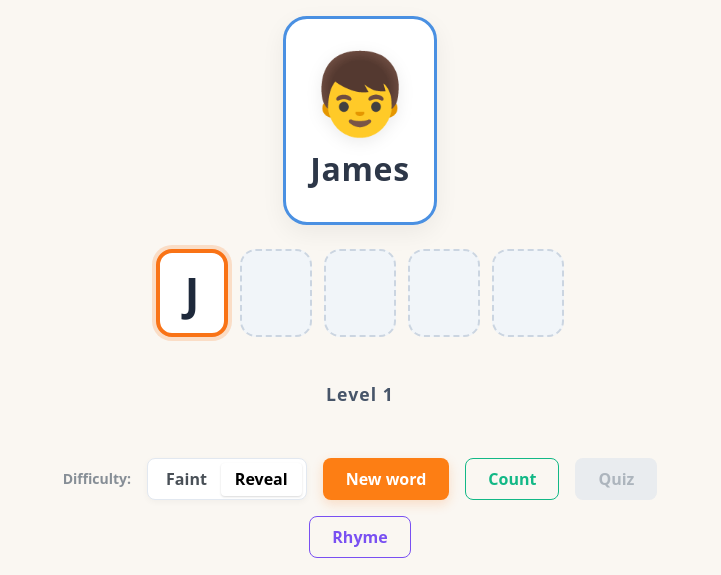
Test case: TypingGame › allows switching to Rhyme mode immediately and displays RhymeGame
Step 1. Click the button "Rhyme" → (360, 537), box x1=309 y1=516 x2=411 y2=558
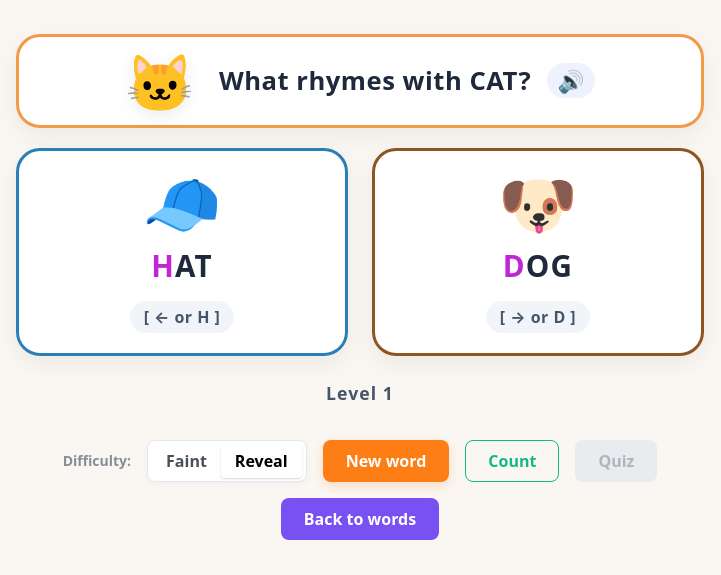
Expected: the heading "What rhymes with CAT?" is shown, x1=219 y1=61 x2=531 y2=100
Expected: the button "Back to words" is shown, x1=281 y1=498 x2=439 y2=540
